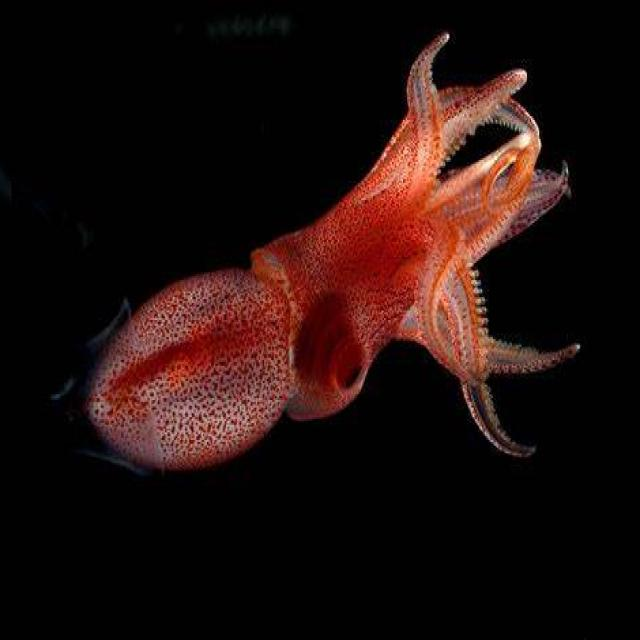SQUID: (57, 19, 594, 524)
